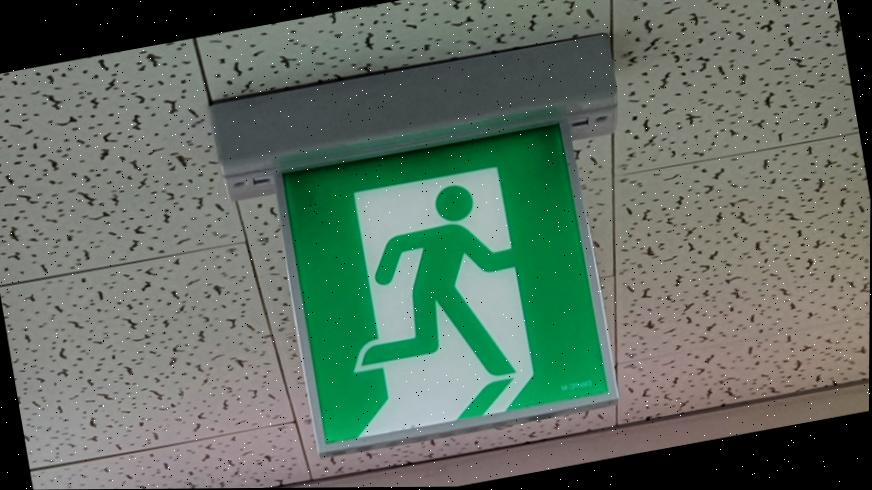emergency_exit: (275, 110, 620, 456)
